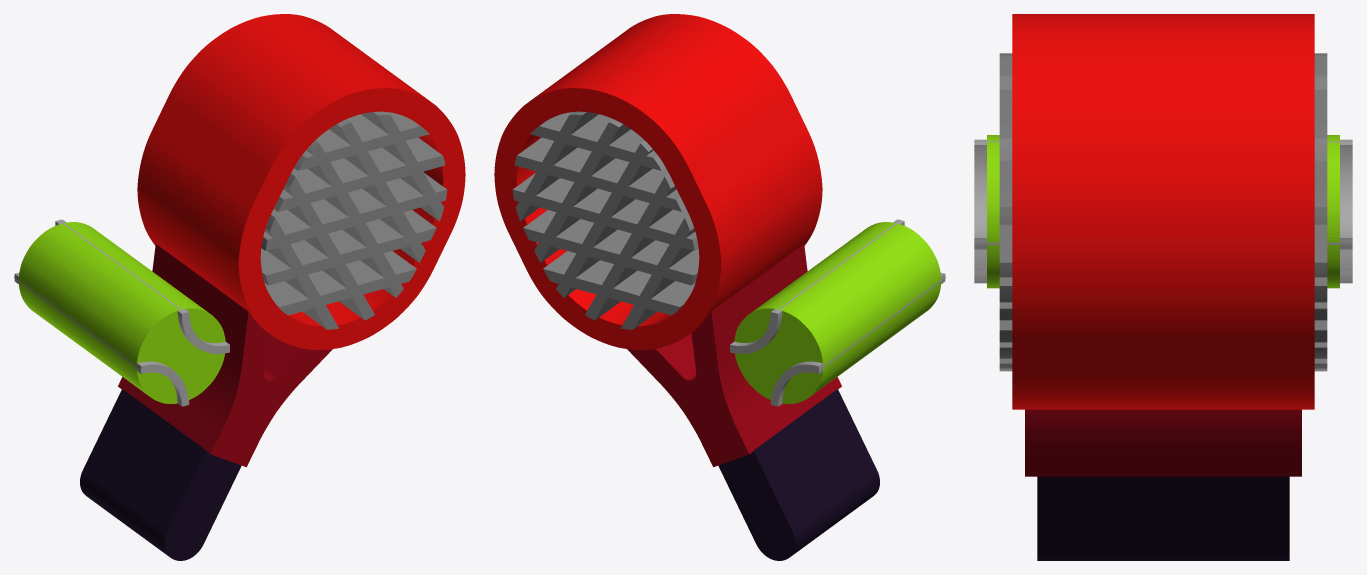
3 renders of one model, left to right at view 1: azimuth 30°, elevation 25°; view 2: azimuth 150°, elevation 25°; view 3: azimuth 270°, elevation 25°, orthographic. The views are drawn at different scales.
Parts seen in each view (by area): view 1: U+1F3BE_layer02_obj00, U+1F3BE_layer03_obj00, U+1F3BE_layer04_obj00, U+1F3BE_layer00_obj00, U+1F3BE_layer01_obj00, U+1F3BE_layer05_obj00; view 2: U+1F3BE_layer02_obj00, U+1F3BE_layer03_obj00, U+1F3BE_layer04_obj00, U+1F3BE_layer00_obj00, U+1F3BE_layer01_obj00, U+1F3BE_layer05_obj00; view 3: U+1F3BE_layer02_obj00, U+1F3BE_layer00_obj00, U+1F3BE_layer01_obj00, U+1F3BE_layer03_obj00, U+1F3BE_layer04_obj00, U+1F3BE_layer05_obj00.
Boxes of the visible parts, x1,y1,x2,y2 form: U+1F3BE_layer02_obj00: (137, 14, 465, 349); U+1F3BE_layer03_obj00: (260, 111, 447, 329); U+1F3BE_layer04_obj00: (18, 222, 225, 403); U+1F3BE_layer00_obj00: (80, 389, 241, 560); U+1F3BE_layer01_obj00: (118, 244, 332, 467); U+1F3BE_layer05_obj00: (14, 219, 229, 406); U+1F3BE_layer02_obj00: (494, 14, 822, 349); U+1F3BE_layer03_obj00: (512, 111, 699, 329); U+1F3BE_layer04_obj00: (734, 222, 941, 403); U+1F3BE_layer00_obj00: (718, 389, 879, 560); U+1F3BE_layer01_obj00: (627, 244, 841, 467); U+1F3BE_layer05_obj00: (730, 219, 945, 406); U+1F3BE_layer02_obj00: (1012, 14, 1314, 409); U+1F3BE_layer00_obj00: (1037, 476, 1289, 560); U+1F3BE_layer01_obj00: (1025, 409, 1301, 476); U+1F3BE_layer03_obj00: (999, 53, 1327, 371); U+1F3BE_layer04_obj00: (987, 135, 1339, 288); U+1F3BE_layer05_obj00: (974, 139, 1352, 283).
Size of the model in its own units: 0.4614 by 0.5686 by 0.3.
